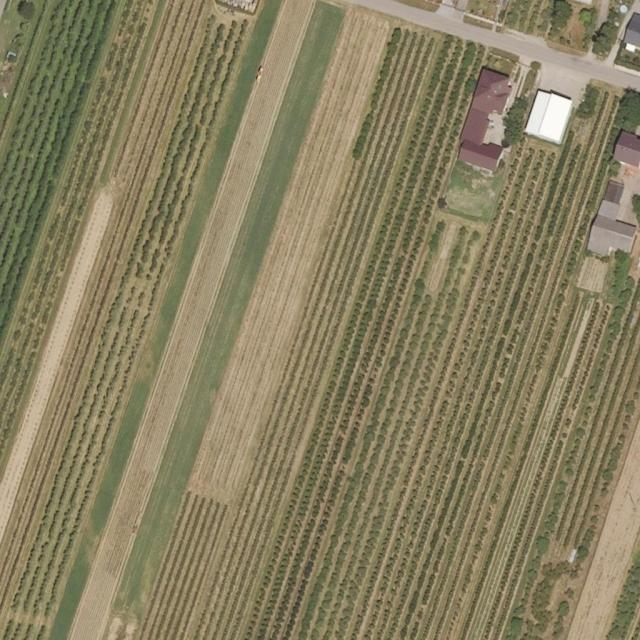agricultural_land: (483, 59, 640, 271), (436, 163, 504, 222)
building: (454, 67, 522, 171), (584, 179, 640, 263), (524, 88, 574, 145)
